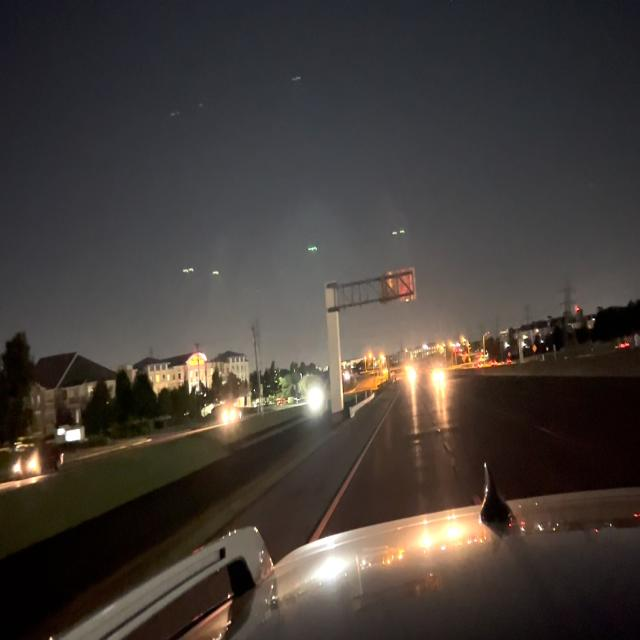back-of-sign: (379, 265, 417, 315)
